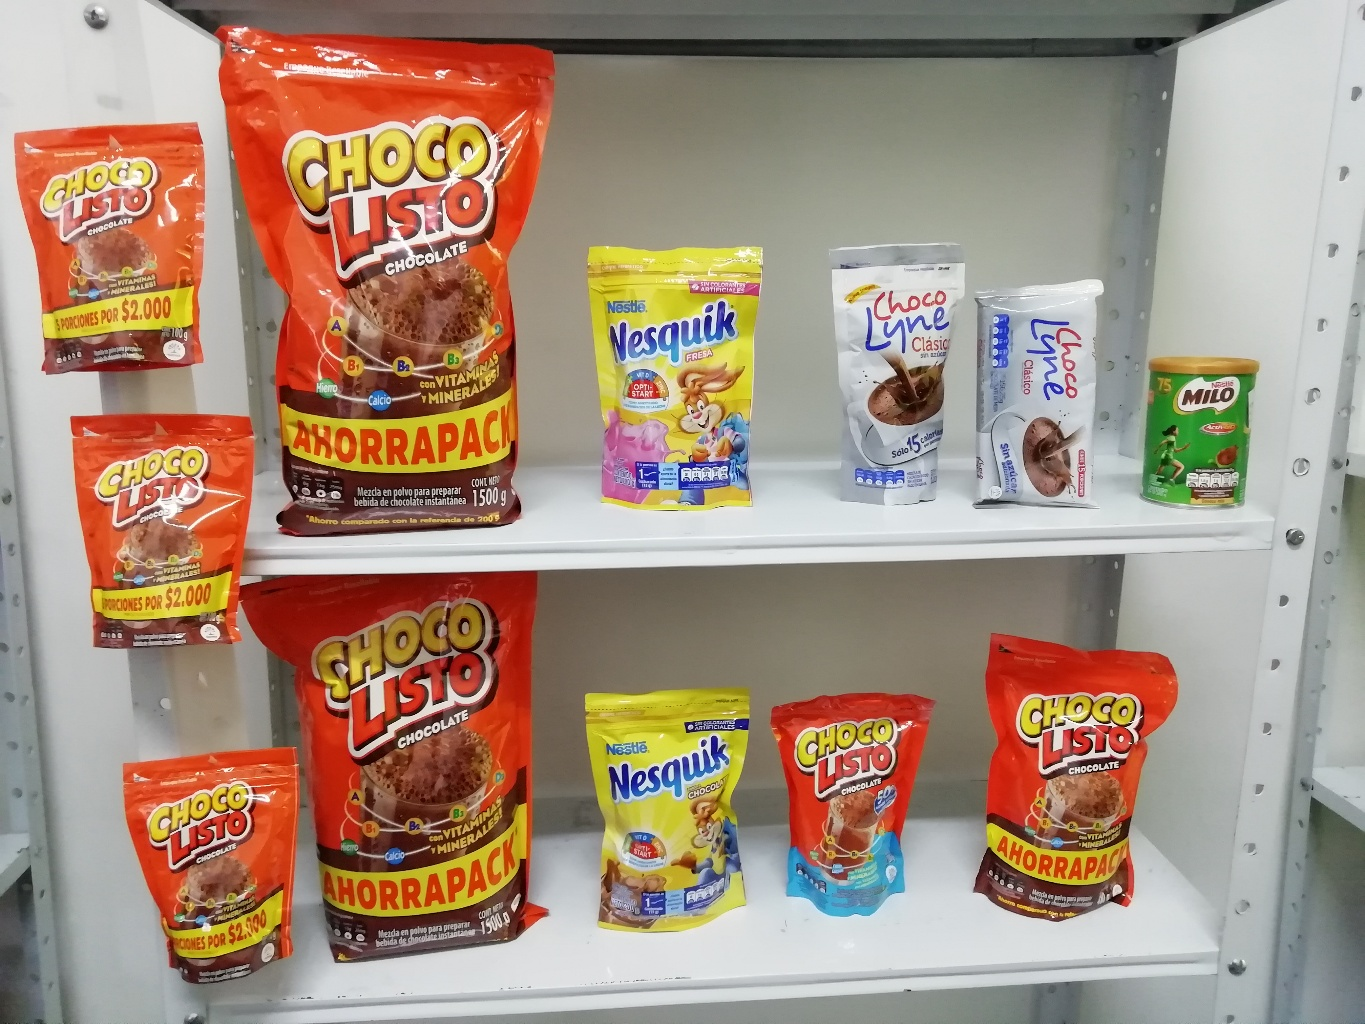COL0170103DYP1,500: (207, 16, 561, 543)
COL0170103DYP10000: (116, 751, 318, 984)
COL0170103DYP40000: (955, 610, 1199, 927)
COL0170104DYP20000: (757, 680, 939, 924)
COL0170203LAT20000: (1143, 343, 1266, 528)
COL0170303DYP20000: (566, 682, 745, 941)
COL0170305DYP20000: (570, 236, 772, 514)
